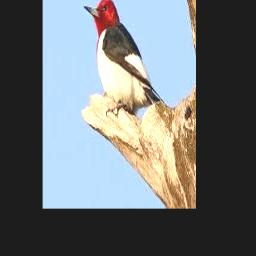Woodpecker: (84, 0, 161, 110)
